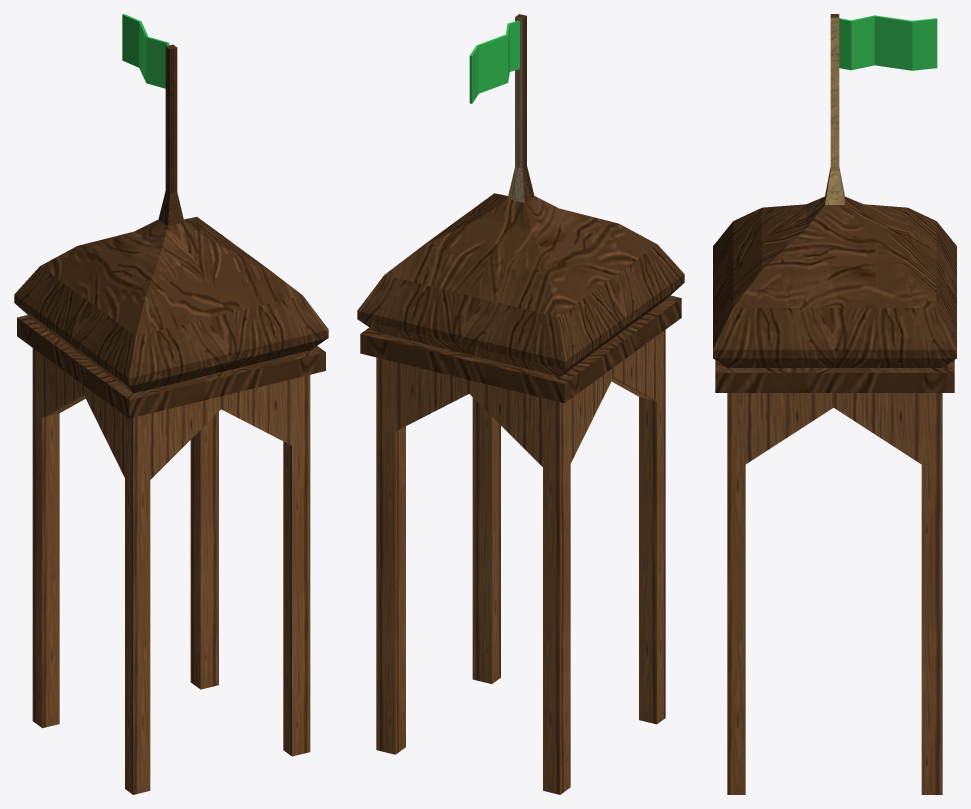
The model's file is End.fbx.
3 views of the same model, side by side, from view 1: azimuth 30°, elevation 25°; view 2: azimuth 150°, elevation 25°; view 3: azimuth 270°, elevation 25° (orthographic). The views are drawn at different scales.
Visible parts, largest first — view 1: jail.001; view 2: jail.001; view 3: jail.001.
Boxes of the visible parts, x1,y1,x2,y2 form: jail.001: (14,14,328,794); jail.001: (357,14,684,794); jail.001: (713,14,956,794).
Size of the model in its own units: 238 by 785 by 237.
